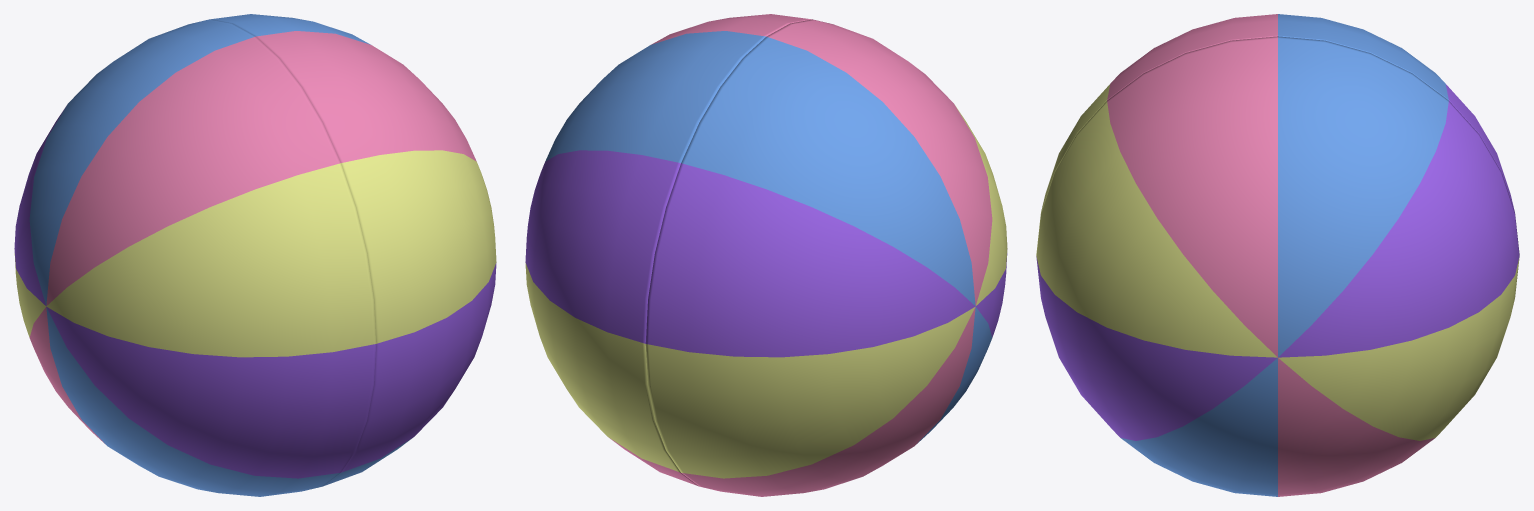
The model's file is SM_Pilates_Ball_02b.fbx.
3 renders of one model, left to right at view 1: azimuth 30°, elevation 25°; view 2: azimuth 150°, elevation 25°; view 3: azimuth 270°, elevation 25°, orthographic.
Visible parts, largest first — view 1: Pilates_Ball_02, Pilates_Ball_01; view 2: Pilates_Ball_02, Pilates_Ball_01; view 3: Pilates_Ball_01, Pilates_Ball_02.
Boxes of the visible parts, x1,y1,x2,y2 form: Pilates_Ball_02: (14,19,376,496); Pilates_Ball_01: (210,14,496,486); Pilates_Ball_02: (645,19,1007,496); Pilates_Ball_01: (525,14,811,486); Pilates_Ball_01: (1036,36,1519,496); Pilates_Ball_02: (1041,14,1514,210).
Bounding box in the file's own units: 44.74 × 44.74 × 44.74.
